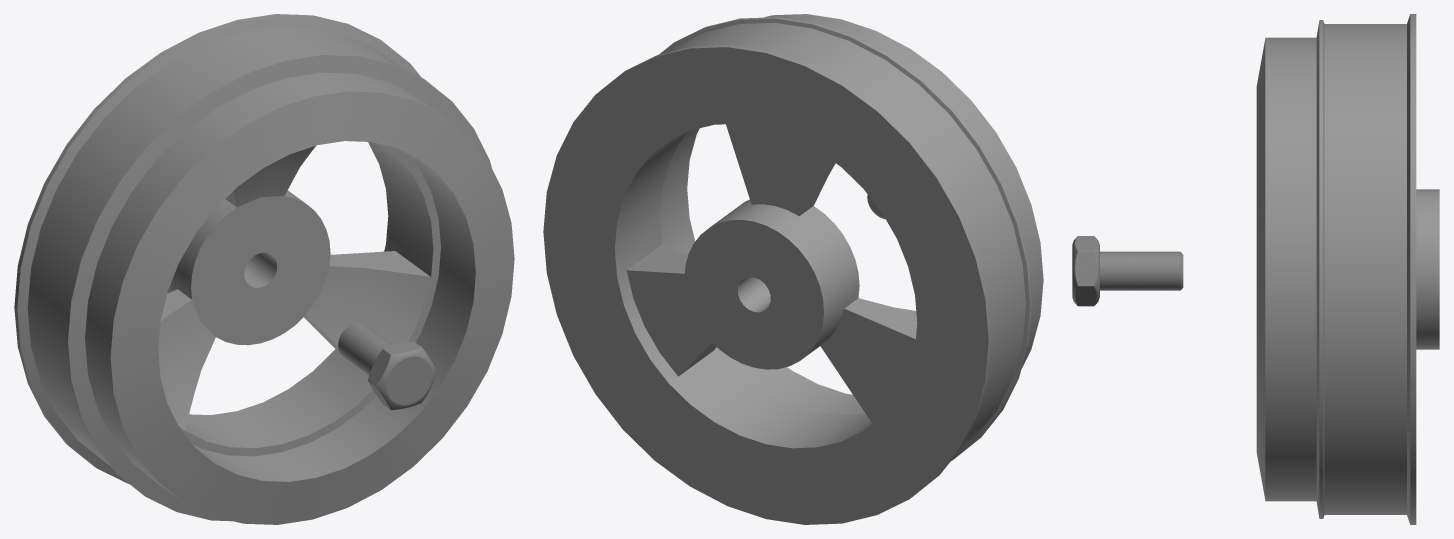
Rendered from harm.glb.
3 renders of one model, left to right at view 1: azimuth 30°, elevation 25°; view 2: azimuth 150°, elevation 25°; view 3: azimuth 270°, elevation 25°, orthographic.
Visible parts, largest first — view 1: v8_kolo_pasowe_walu(0), srubaSilnik_1; view 2: v8_kolo_pasowe_walu(0); view 3: v8_kolo_pasowe_walu(0), srubaSilnik_1.
Part boxes in pixels (x1,y1,x2,y2): v8_kolo_pasowe_walu(0): (14,14,514,524); srubaSilnik_1: (338,323,436,410); v8_kolo_pasowe_walu(0): (543,14,1043,524); v8_kolo_pasowe_walu(0): (1256,14,1439,524); srubaSilnik_1: (1072,236,1183,306).
Size of the model in its own units: 0.00351 by 0.00351 by 0.00251.
Materials: 2 (1 with a texture image).
